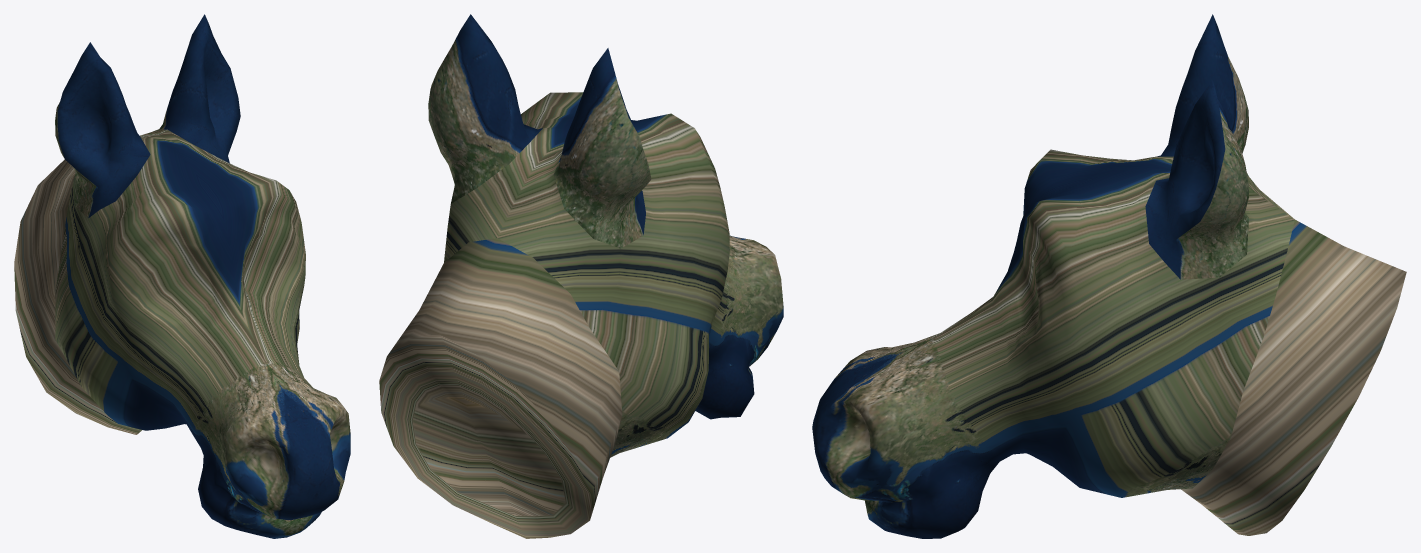
File: horse_base.obj
3 renders of one model, left to right at view 1: azimuth 30°, elevation 25°; view 2: azimuth 150°, elevation 25°; view 3: azimuth 270°, elevation 25°, orthographic. The views are drawn at different scales.
Parts seen in each view (by area): view 1: Plane.002; view 2: Plane.002; view 3: Plane.002.
Part boxes in pixels (<box>): Plane.002: <box>14,14,350,538</box>; Plane.002: <box>379,14,783,538</box>; Plane.002: <box>812,14,1406,538</box>.
Bounding box in the file's own units: 0.3934 × 0.7683 × 0.8491.
